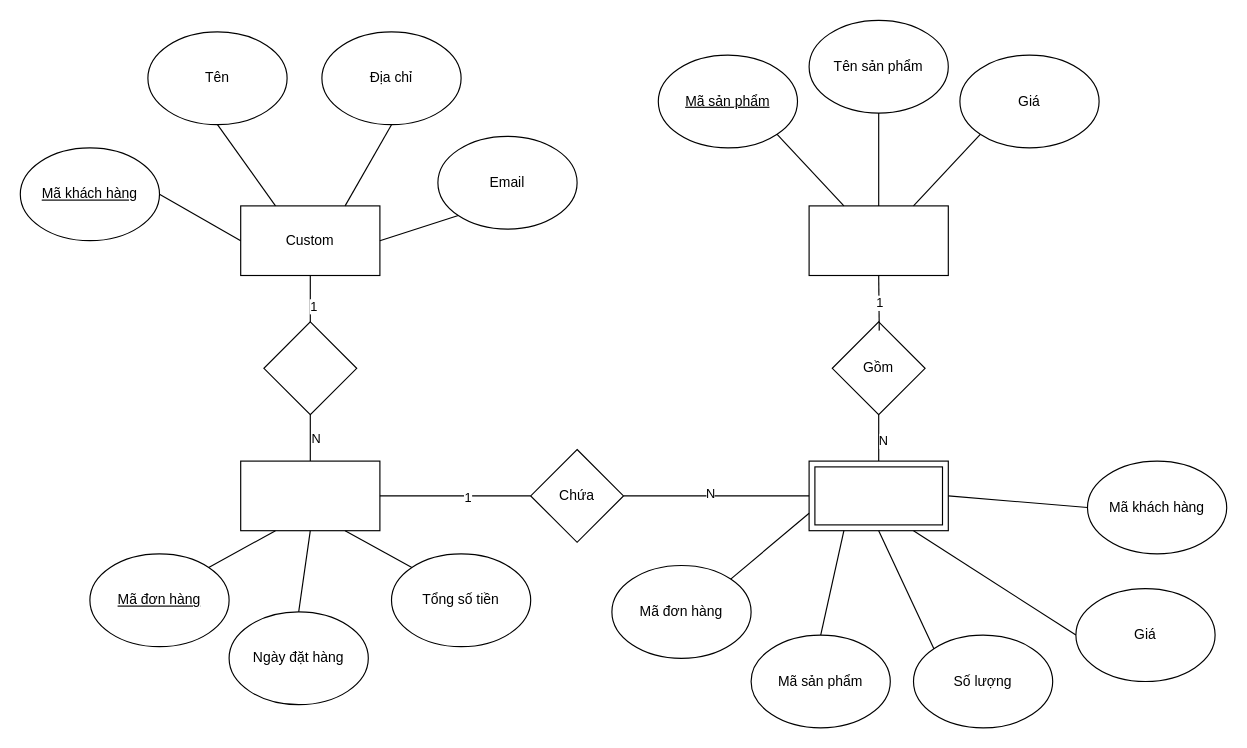
Image size: 1247x748. Some labels were removed from this diagram. Each missing label, with the centre of its shape:
"Có" belongs at (x=310, y=368).
"Order" belongs at (x=310, y=495).
"Order_detail" belongs at (x=878, y=495).
"Product" belongs at (x=878, y=240).
